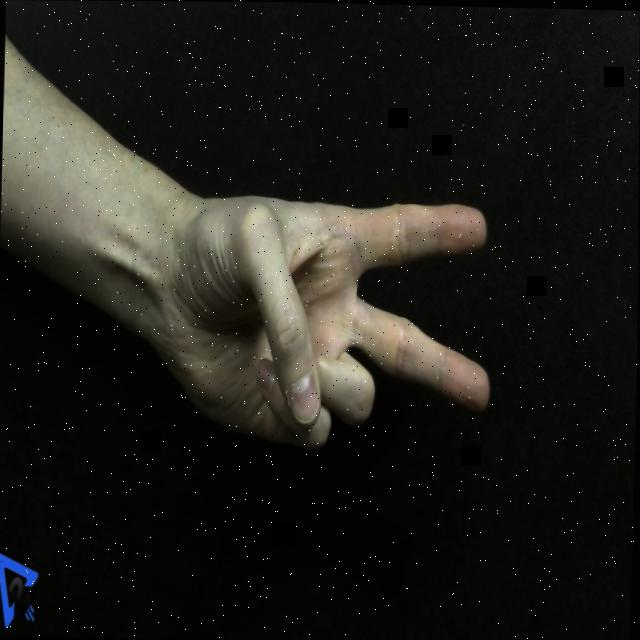Scissors: (154, 186, 496, 452)
